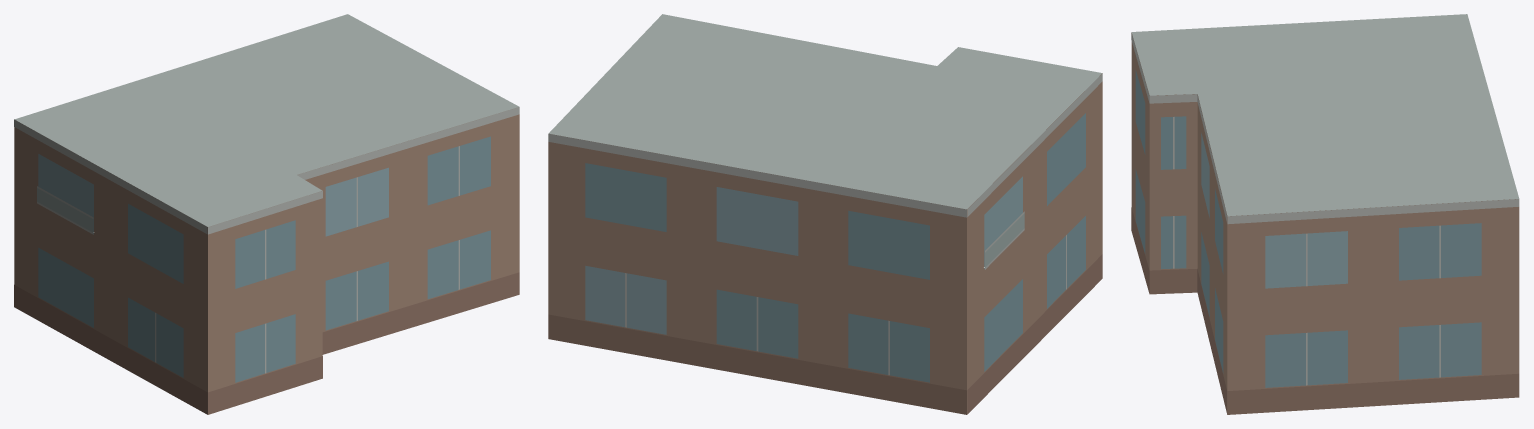
The model's file is survey-upis-32949419.glb.
3 renders of one model, left to right at view 1: azimuth 30°, elevation 25°; view 2: azimuth 150°, elevation 25°; view 3: azimuth 270°, elevation 25°, orthographic. The views are drawn at different scales.
Parts seen in each view (by area): view 1: survey-upis-32949419.tmp; view 2: survey-upis-32949419.tmp; view 3: survey-upis-32949419.tmp.
Part boxes in pixels (bbox=[...]): survey-upis-32949419.tmp: bbox=[14, 14, 519, 414]; survey-upis-32949419.tmp: bbox=[548, 14, 1102, 414]; survey-upis-32949419.tmp: bbox=[1131, 14, 1519, 414].
Bounding box in the file's own units: 13.33 × 6.1 × 10.81.
